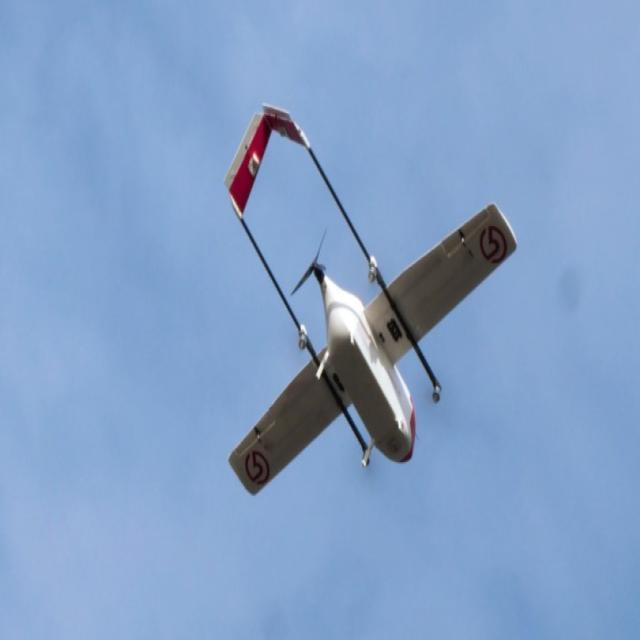iha: (216, 93, 524, 524)
